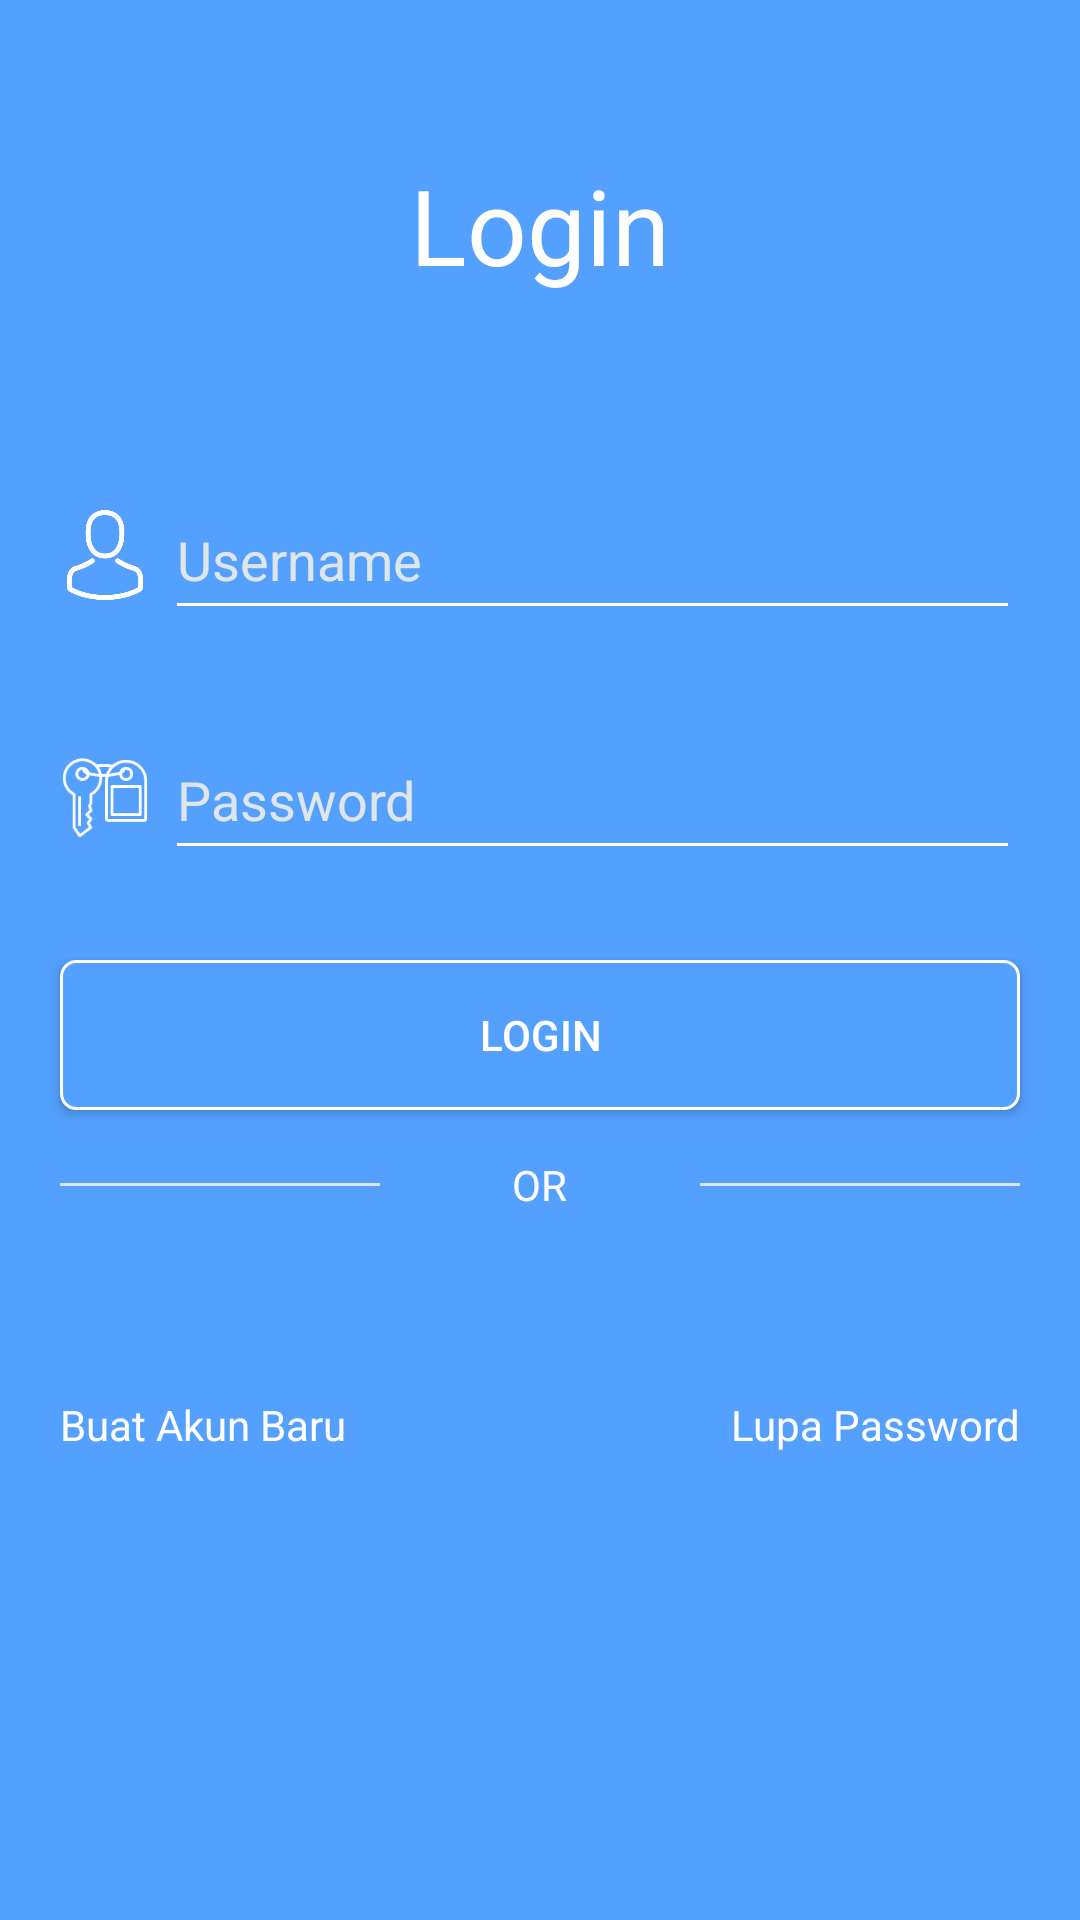

Icon click points for this 1080x1920 phone screenshot, format point (x, y):
key: point (105, 797)
